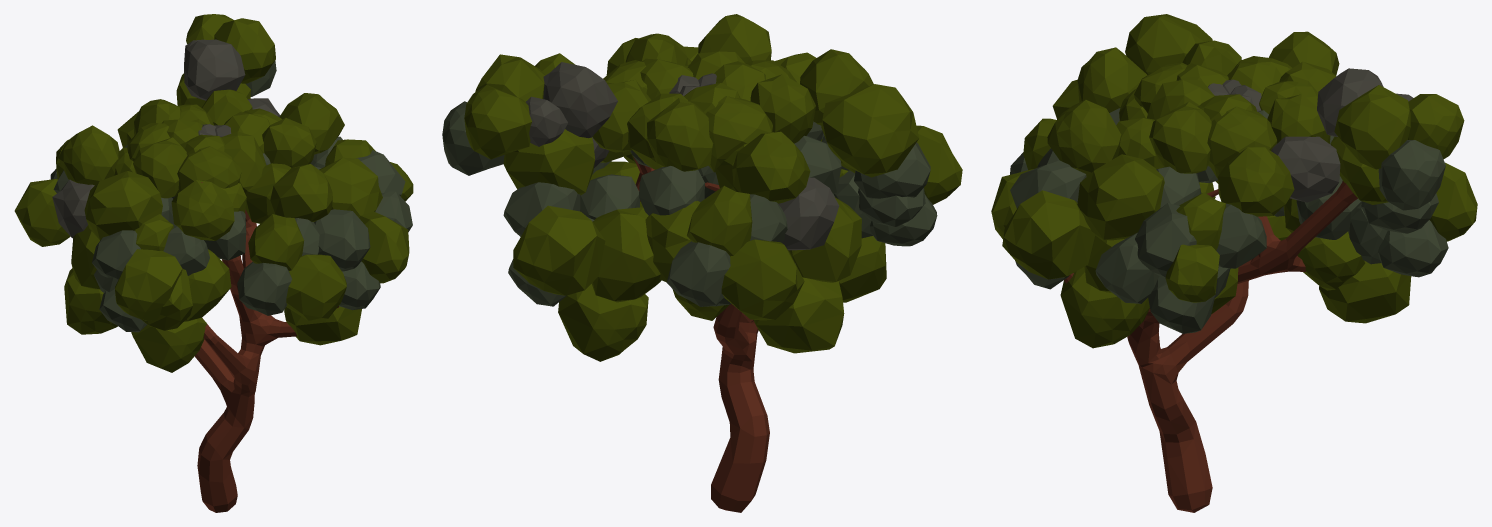
The model's file is TreeModel2.fbx.
The picture shows the model from 3 angles, left to right: view 1: azimuth 30°, elevation 25°; view 2: azimuth 150°, elevation 25°; view 3: azimuth 270°, elevation 25°; orthographic projection. The views are drawn at different scales.
Visible parts, largest first — view 1: Icosphere.103; view 2: Icosphere.103; view 3: Icosphere.103.
Part boxes in pixels (x1=…): Icosphere.103: x1=14, y1=14, x2=413, y2=512; Icosphere.103: x1=442, y1=14, x2=962, y2=512; Icosphere.103: x1=991, y1=14, x2=1477, y2=512.
Size of the model in its own units: 1437 by 1679 by 1540.
